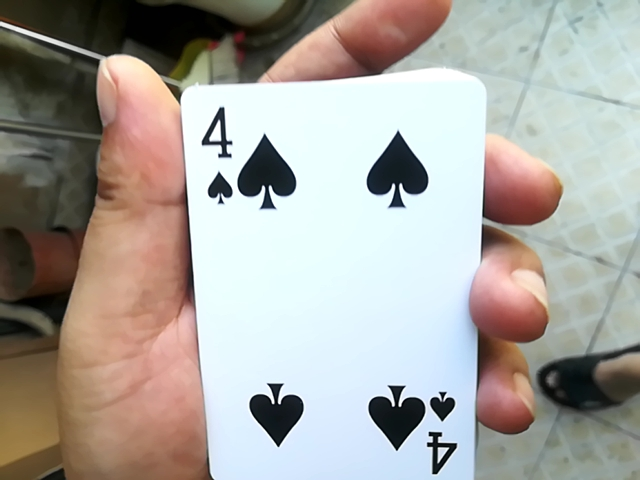ht 4: (168, 66, 466, 478)
